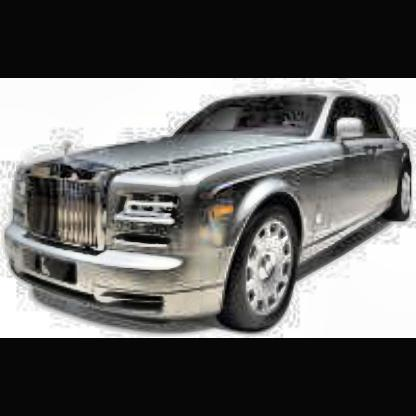Rolls-Royce Phantom Sedan 2012: (4, 94, 416, 339)
